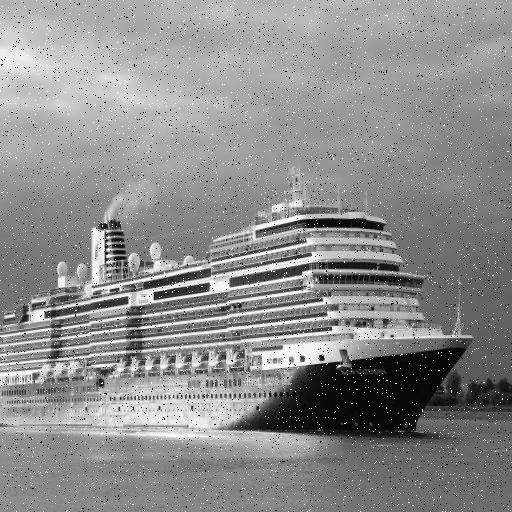cruises: (1, 163, 480, 453)
